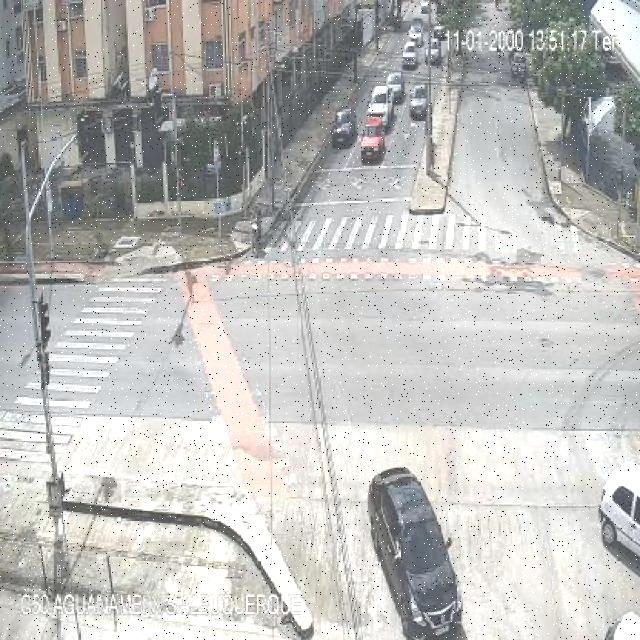Car: (348, 452, 470, 640), (581, 453, 640, 563), (325, 102, 361, 150), (358, 113, 388, 161), (366, 84, 396, 127), (408, 78, 435, 118), (388, 70, 405, 103), (408, 16, 428, 44), (425, 36, 443, 66), (401, 43, 421, 68)
